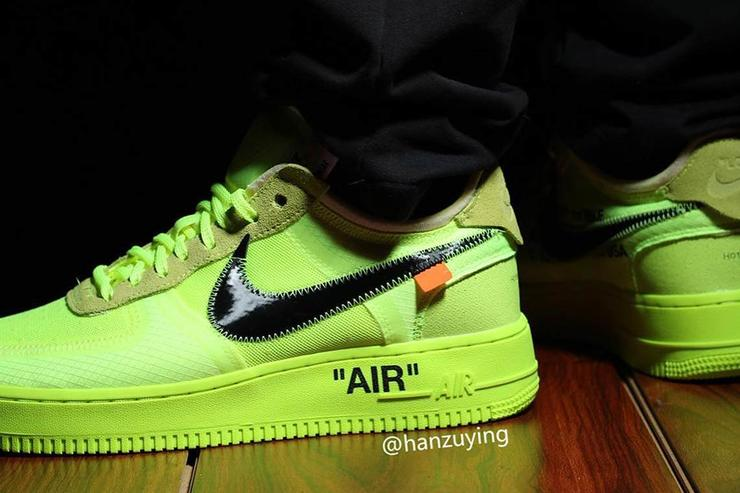Air Force One Volt: (1, 127, 544, 459)
